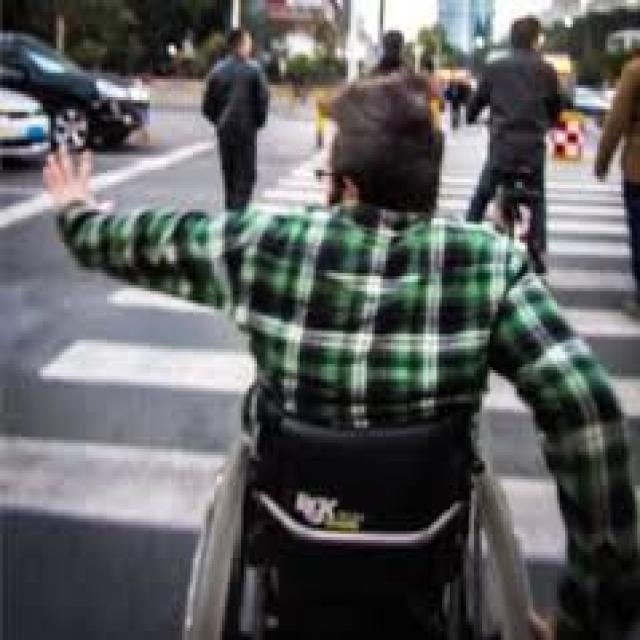wheelchairs: (163, 349, 554, 637)
